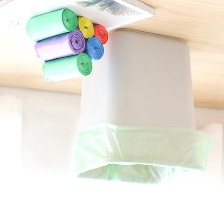plastic_bag: (20, 6, 79, 40), (31, 27, 85, 64), (40, 54, 95, 83), (80, 36, 107, 63), (76, 14, 95, 40), (89, 25, 112, 44)
